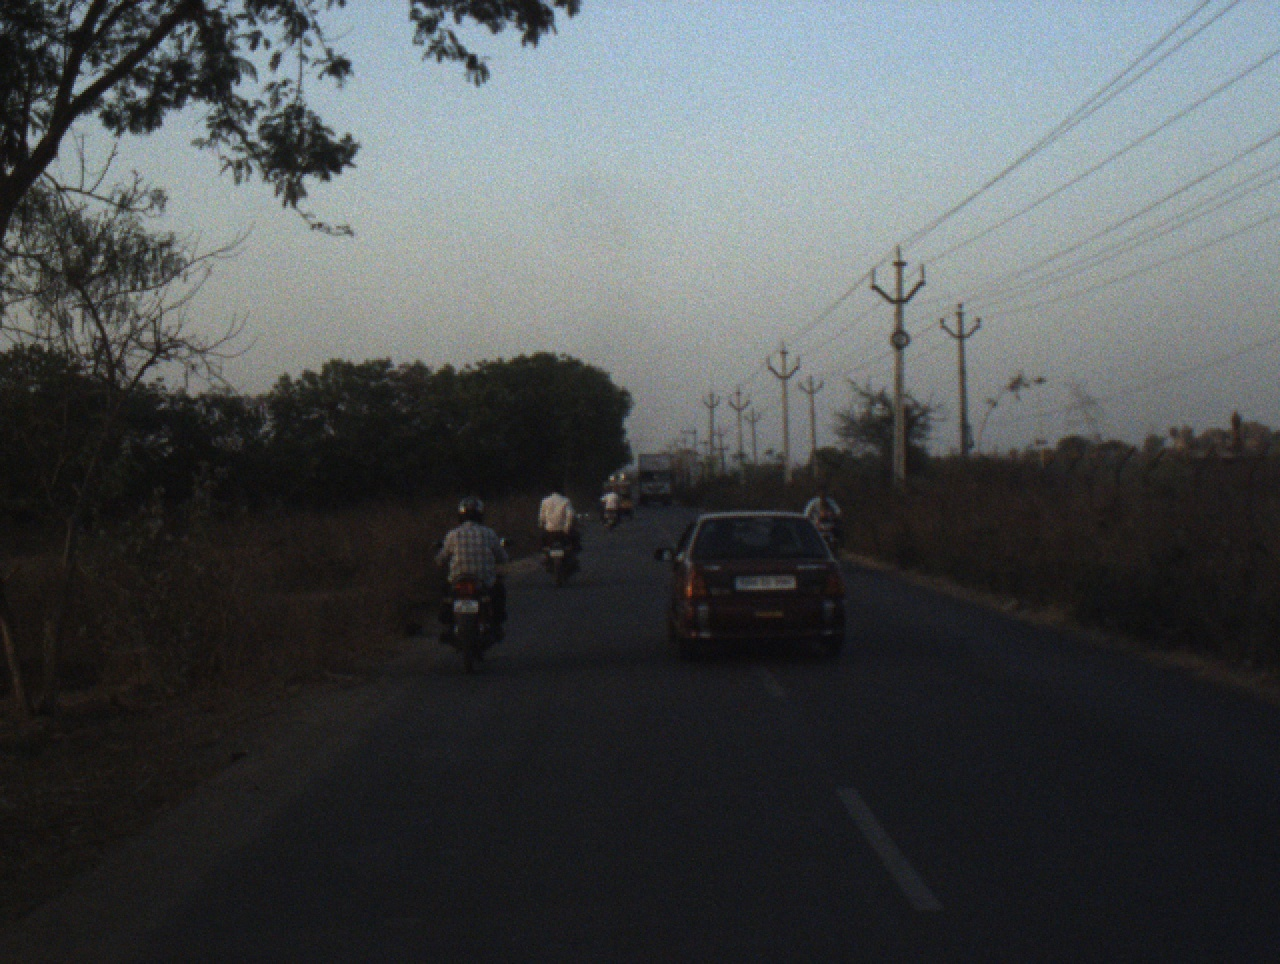car: (653, 509, 847, 668), (602, 474, 638, 518)
motorcycle: (430, 533, 522, 678), (535, 512, 586, 590), (816, 518, 844, 562), (602, 496, 623, 534)
rider: (436, 492, 508, 642), (538, 478, 586, 569), (807, 482, 843, 531), (560, 487, 585, 554), (599, 483, 622, 522), (815, 501, 838, 527)
truck: (637, 451, 679, 508)
